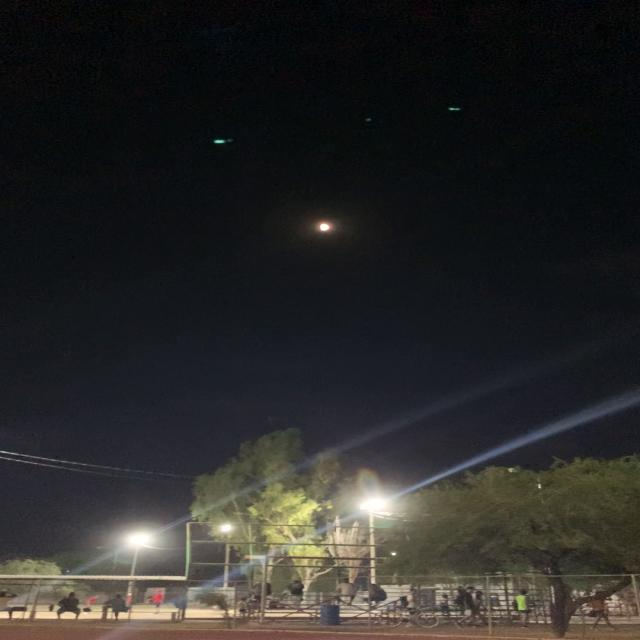moon: (307, 206, 339, 240)
